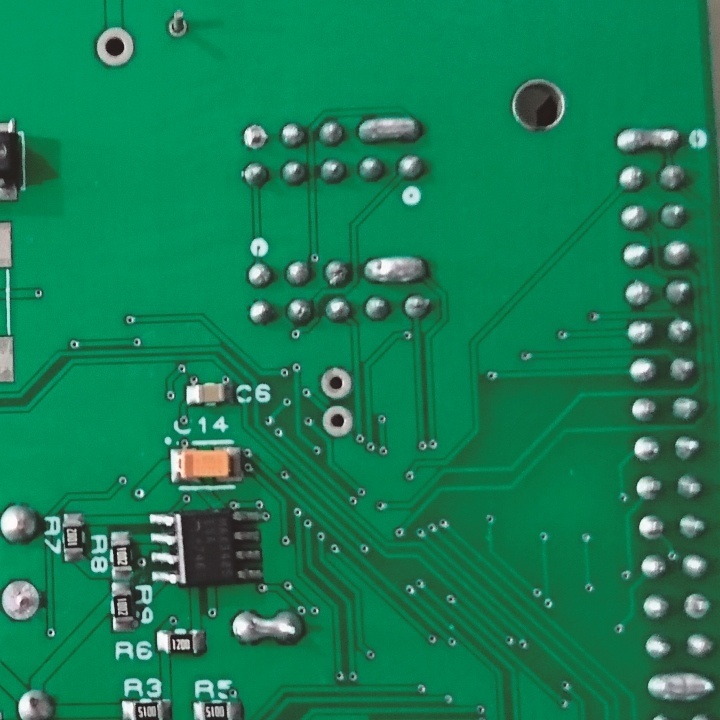F: (94, 24, 139, 70), (1, 575, 44, 623), (319, 363, 353, 402), (322, 403, 353, 438), (632, 434, 663, 467), (636, 514, 669, 543), (239, 122, 270, 151), (679, 591, 709, 620), (165, 7, 191, 39)
P: (229, 604, 307, 652), (645, 671, 719, 705), (615, 120, 683, 155), (355, 112, 424, 145), (361, 252, 430, 285)
